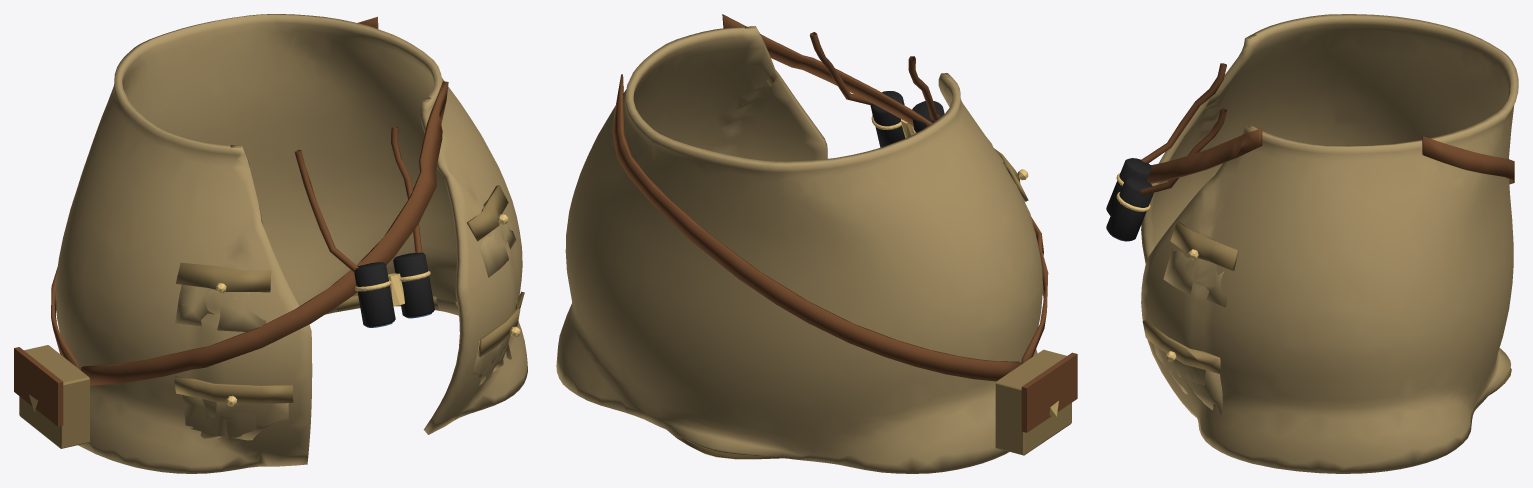
Rendered from explorer.glb.
The picture shows the model from 3 angles, left to right: view 1: azimuth 30°, elevation 25°; view 2: azimuth 150°, elevation 25°; view 3: azimuth 270°, elevation 25°; orthographic projection. The views are drawn at different scales.
Parts seen in each view (by area): view 1: Accessory_explorer; view 2: Accessory_explorer; view 3: Accessory_explorer.
Boxes of the visible parts, <box> form: Accessory_explorer: <box>14,14,527,473</box>; Accessory_explorer: <box>556,14,1077,473</box>; Accessory_explorer: <box>1106,14,1518,473</box>.
Bounding box in the file's own units: 1.79 × 1.13 × 1.4.
